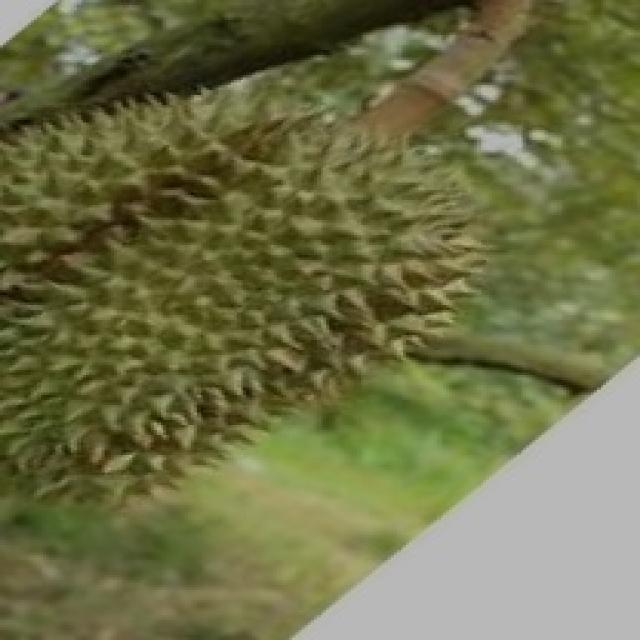fruit: (0, 35, 351, 503)
